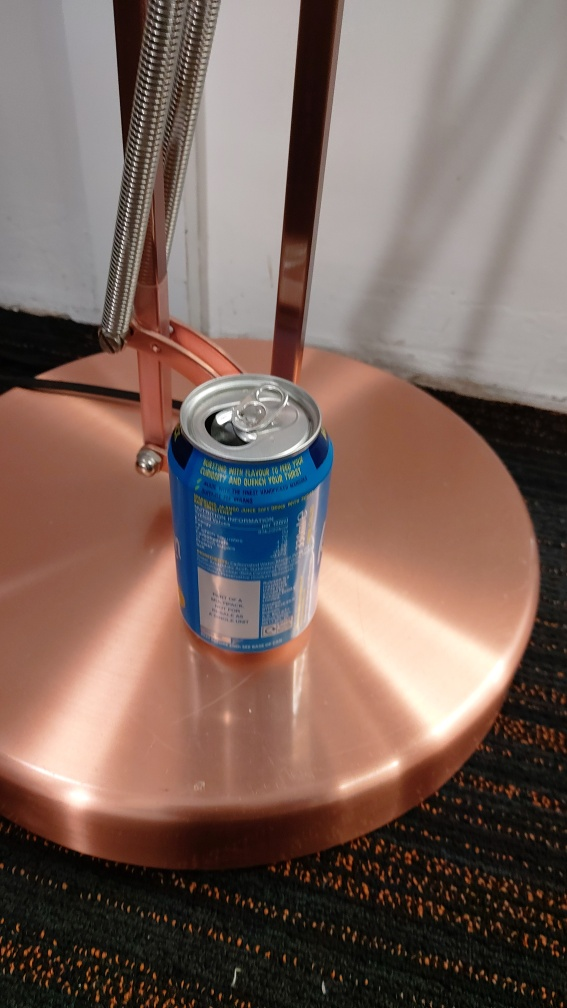can_blue: (138, 358, 369, 681)
